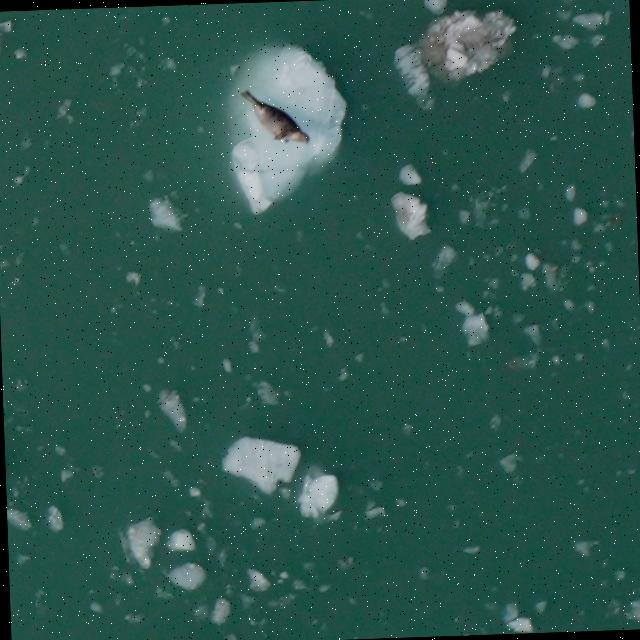seal: (238, 86, 315, 151)
